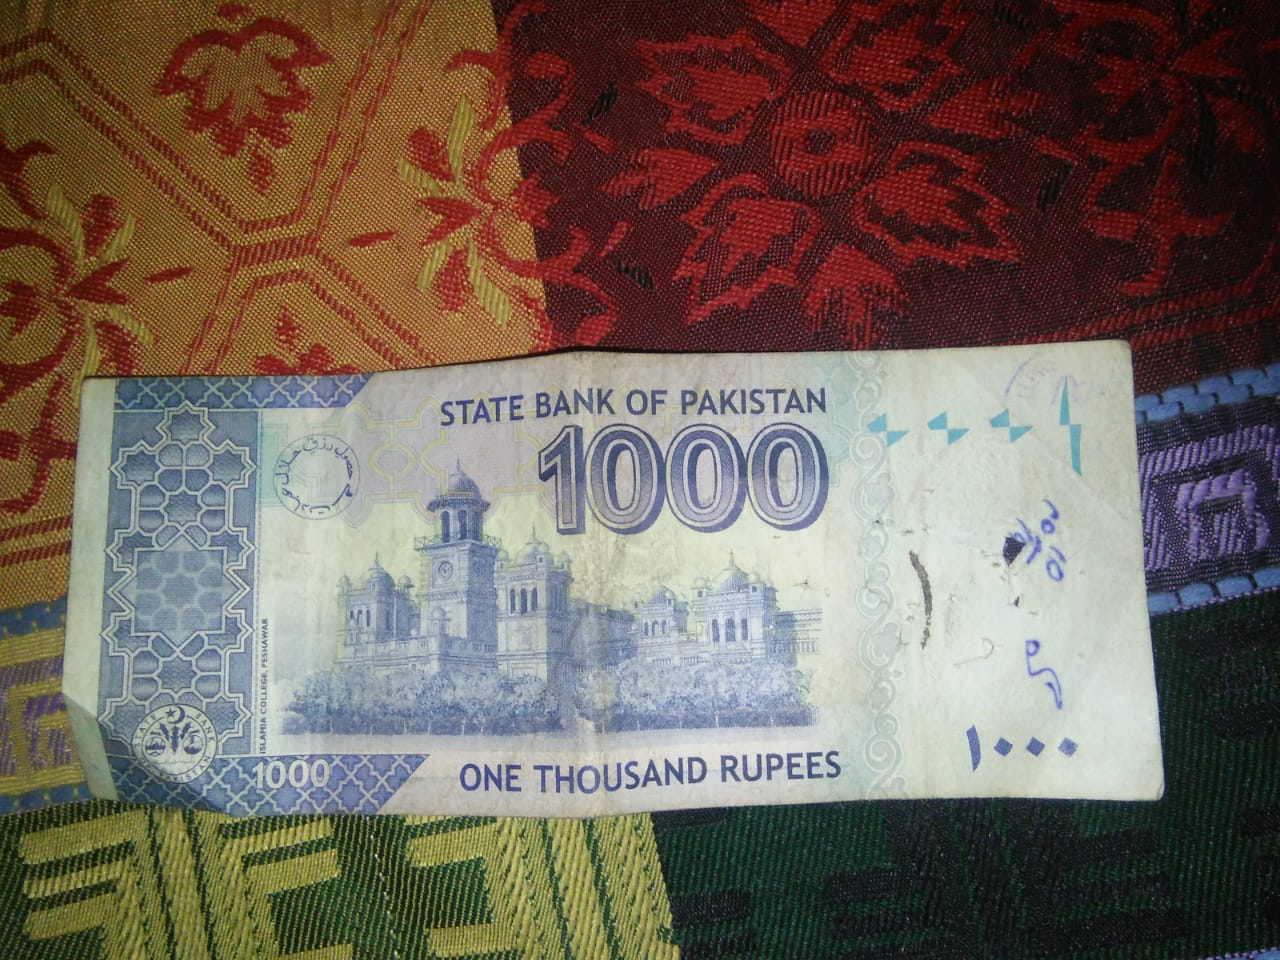1000 rupee: (52, 345, 1177, 856)
